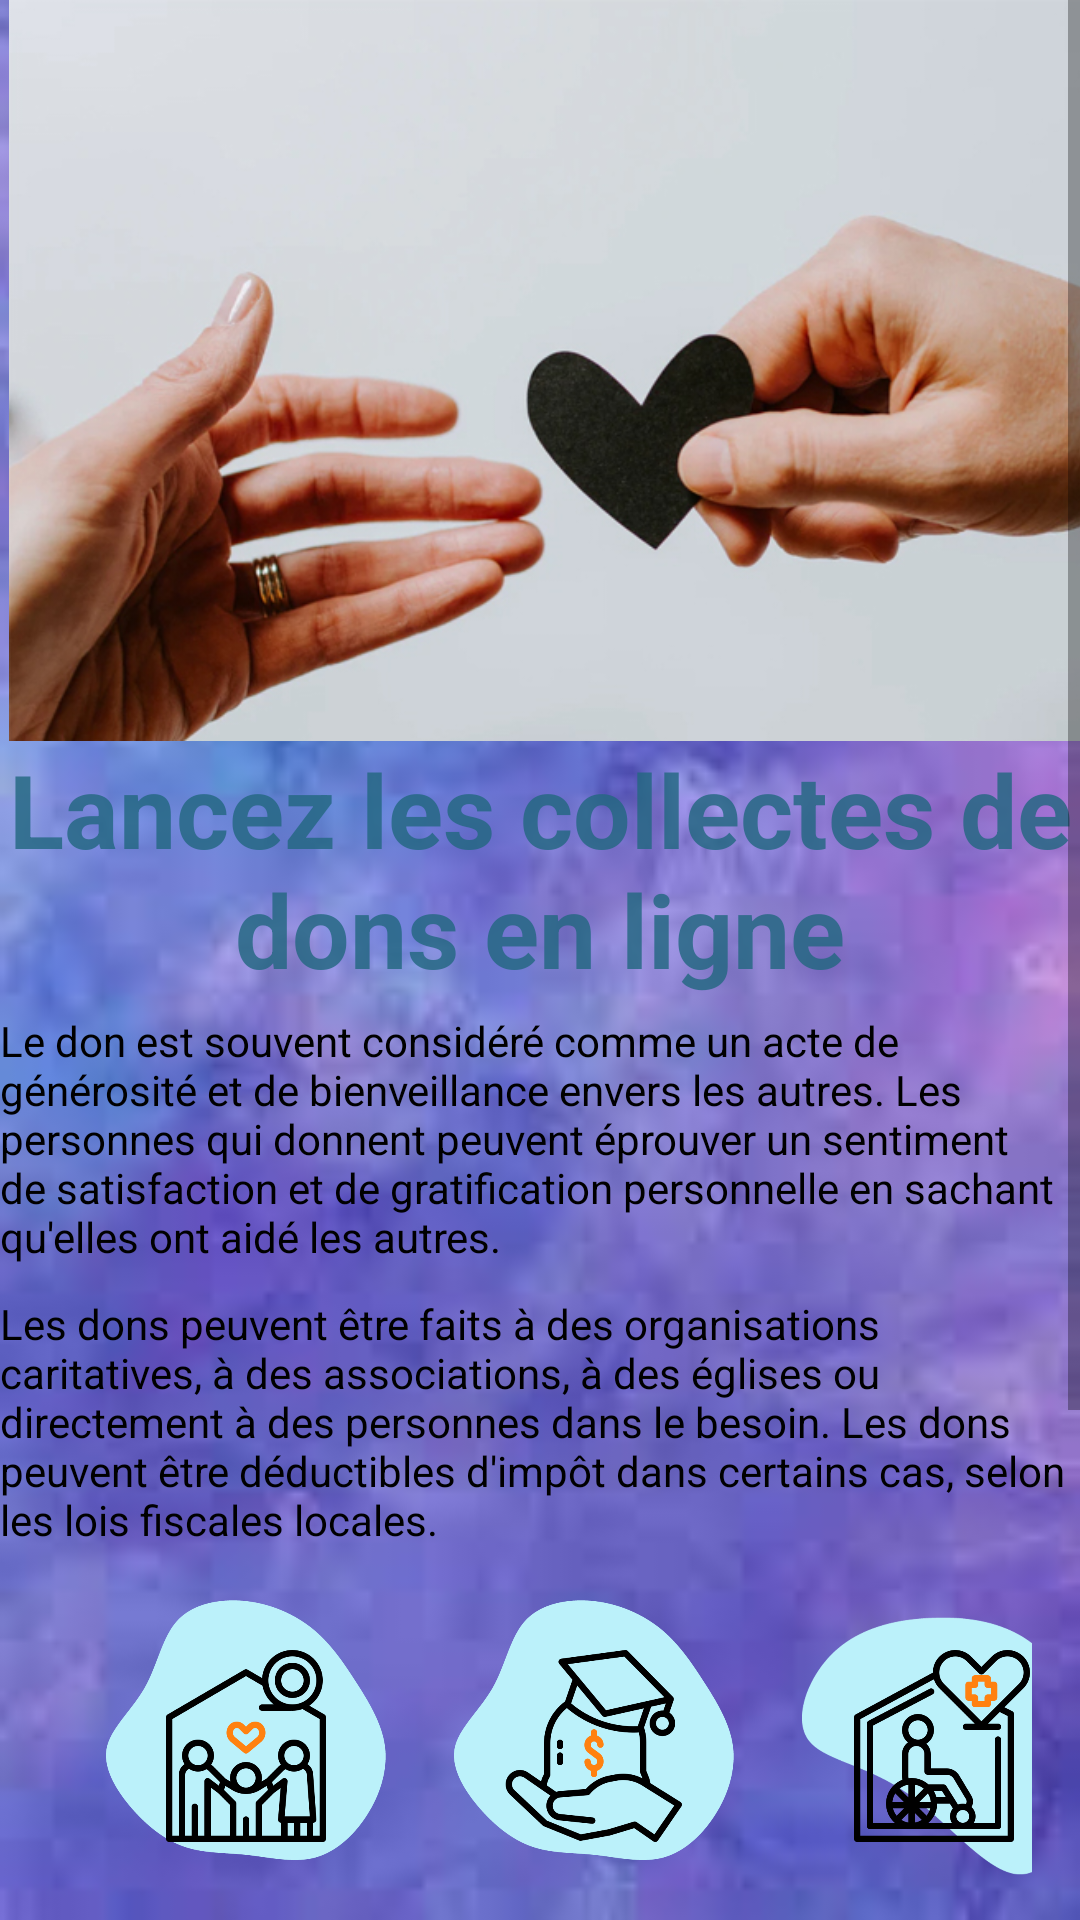

Icon click points for this 1080px x 1920px phone screenshot, format [x,y]:
education: [599,1744]
shelter: [243,1729]
